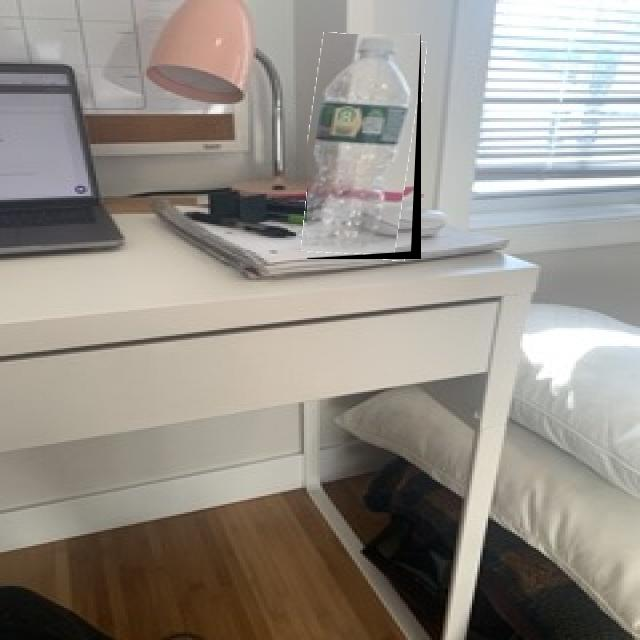water_bottle: (307, 34, 421, 259)
